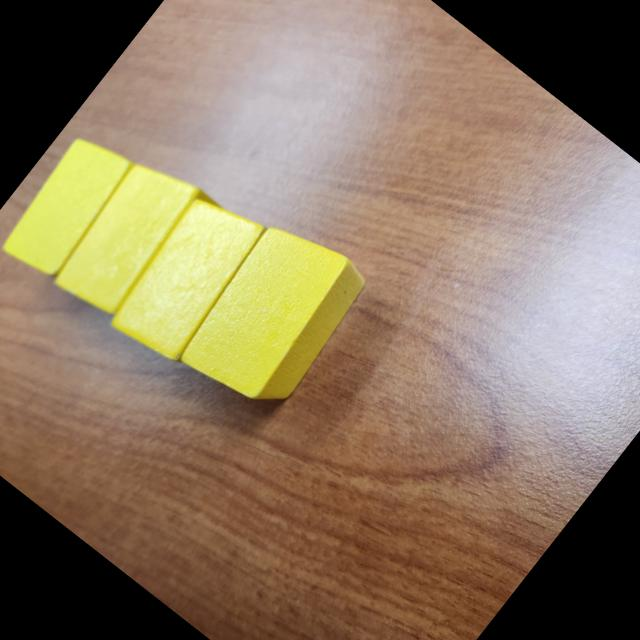yellow: (170, 208, 378, 428), (100, 183, 280, 378), (44, 146, 224, 338), (0, 128, 139, 287)
